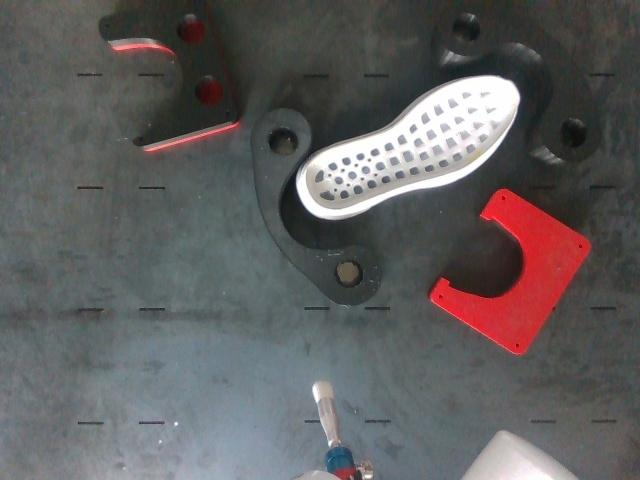shoes: (305, 77, 518, 210)
